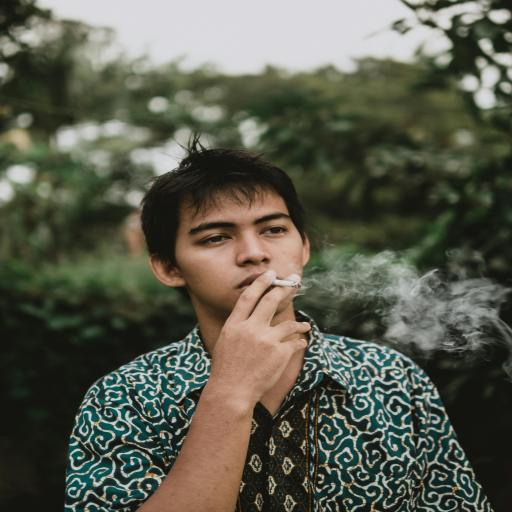dataset-deteksi-merokok: (180, 194, 318, 326)
